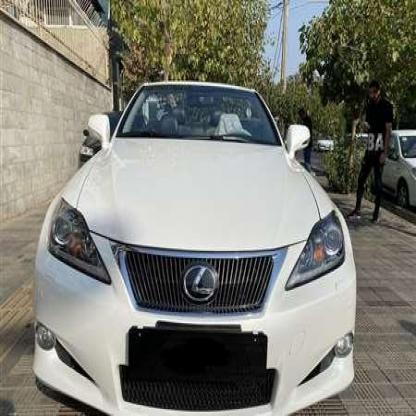Car: (39, 79, 361, 416), (379, 115, 416, 208), (63, 113, 127, 160), (313, 130, 333, 154)
